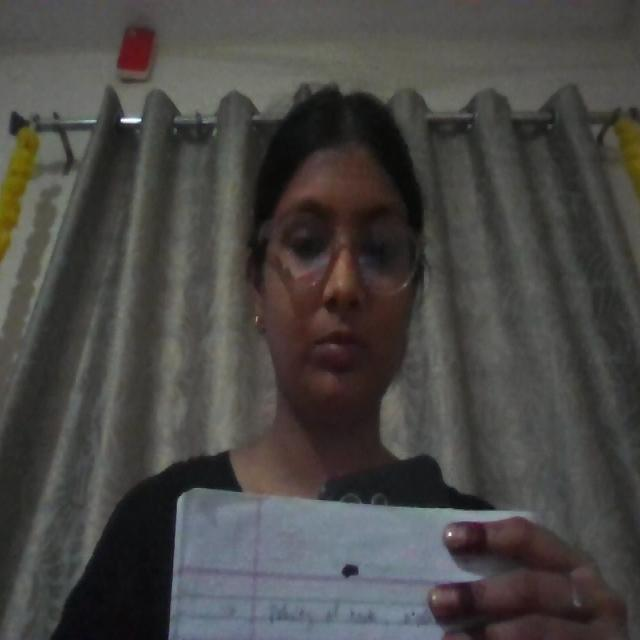phone: (318, 455, 492, 508)
